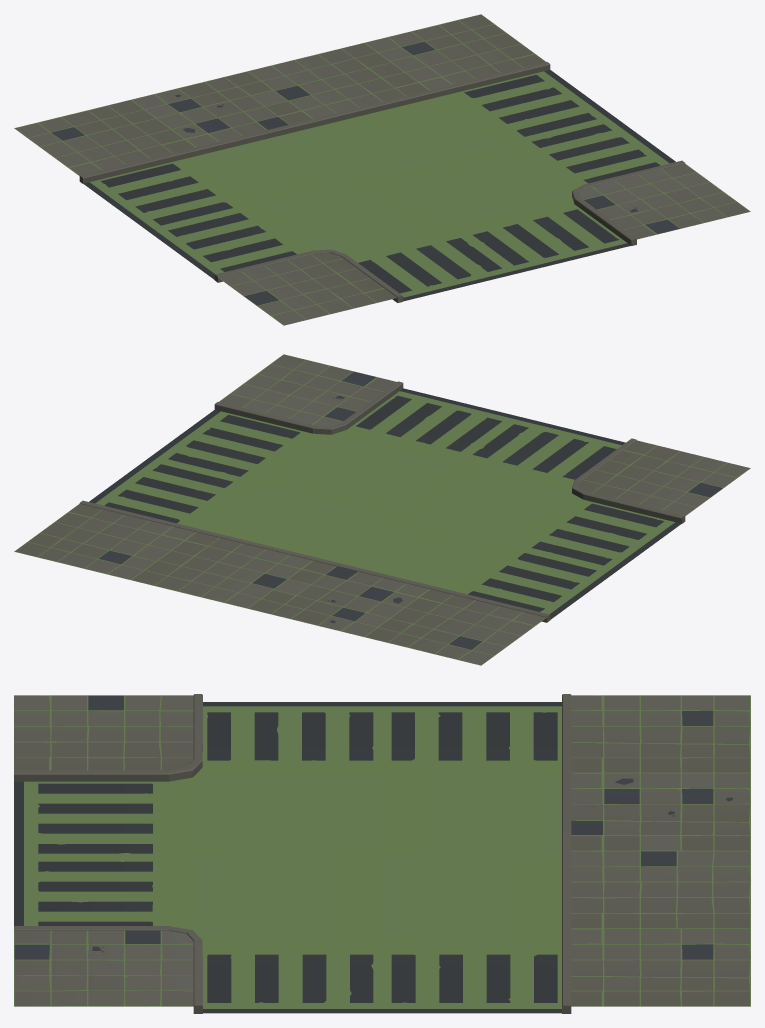
The model's file is Road_28.fbx.
3 views of the same model, one above another, from view 1: azimuth 30°, elevation 25°; view 2: azimuth 150°, elevation 25°; view 3: azimuth 270°, elevation 25° (orthographic). The views are drawn at different scales.
Parts seen in each view (by area): view 1: Road_28; view 2: Road_28; view 3: Road_28.
Part boxes in pixels (x1=…): Road_28: x1=14, y1=14, x2=750, y2=325; Road_28: x1=14, y1=354, x2=750, y2=665; Road_28: x1=14, y1=694, x2=750, y2=1013.
Bounding box in the file's own units: 12 × 0.15 × 12.
